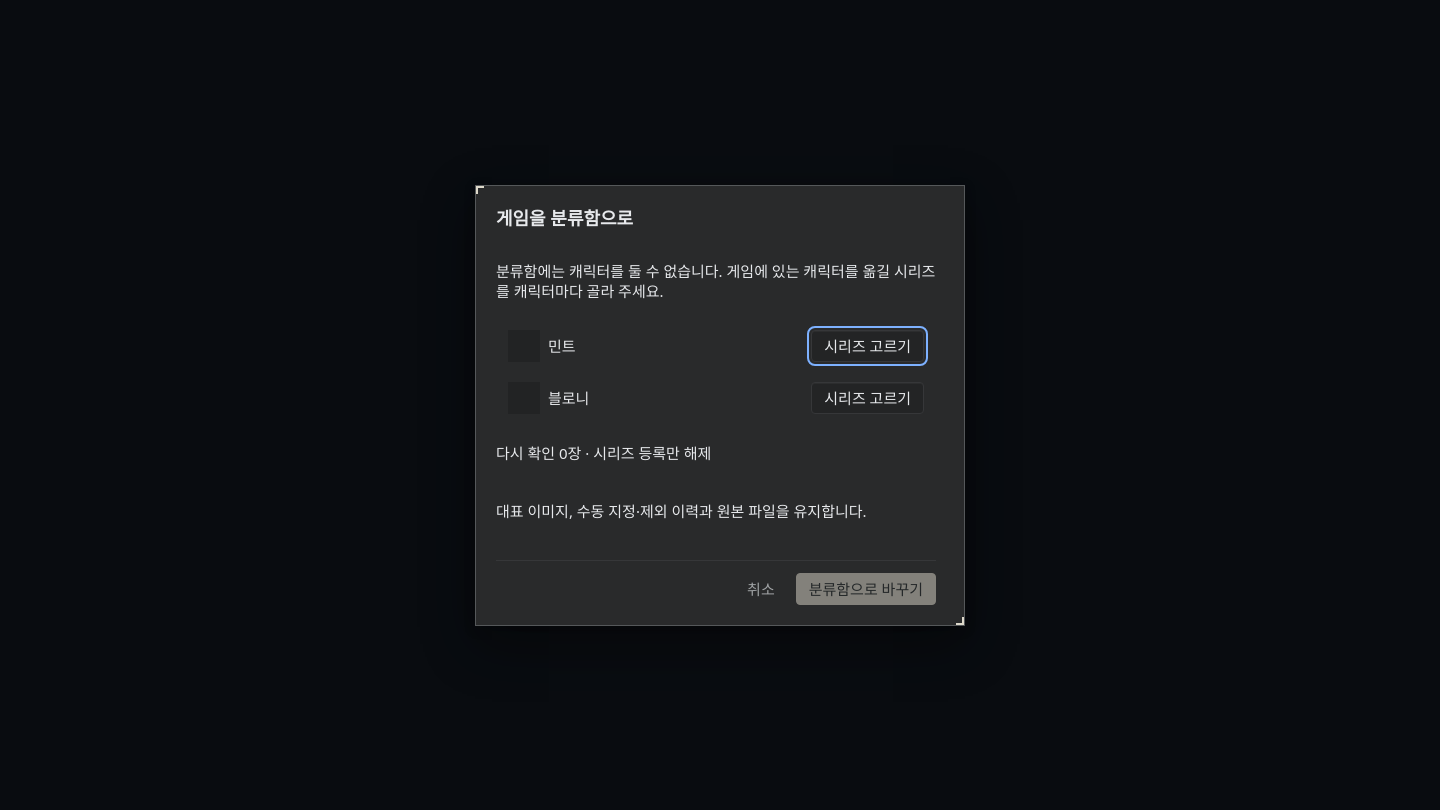
it: warns per character when references end up outside the series, and still allows converting
Click the button "시리즈 고르기" in the row of "민트". click: {"x": 868, "y": 346}
box: left=811, top=330, right=924, bottom=362
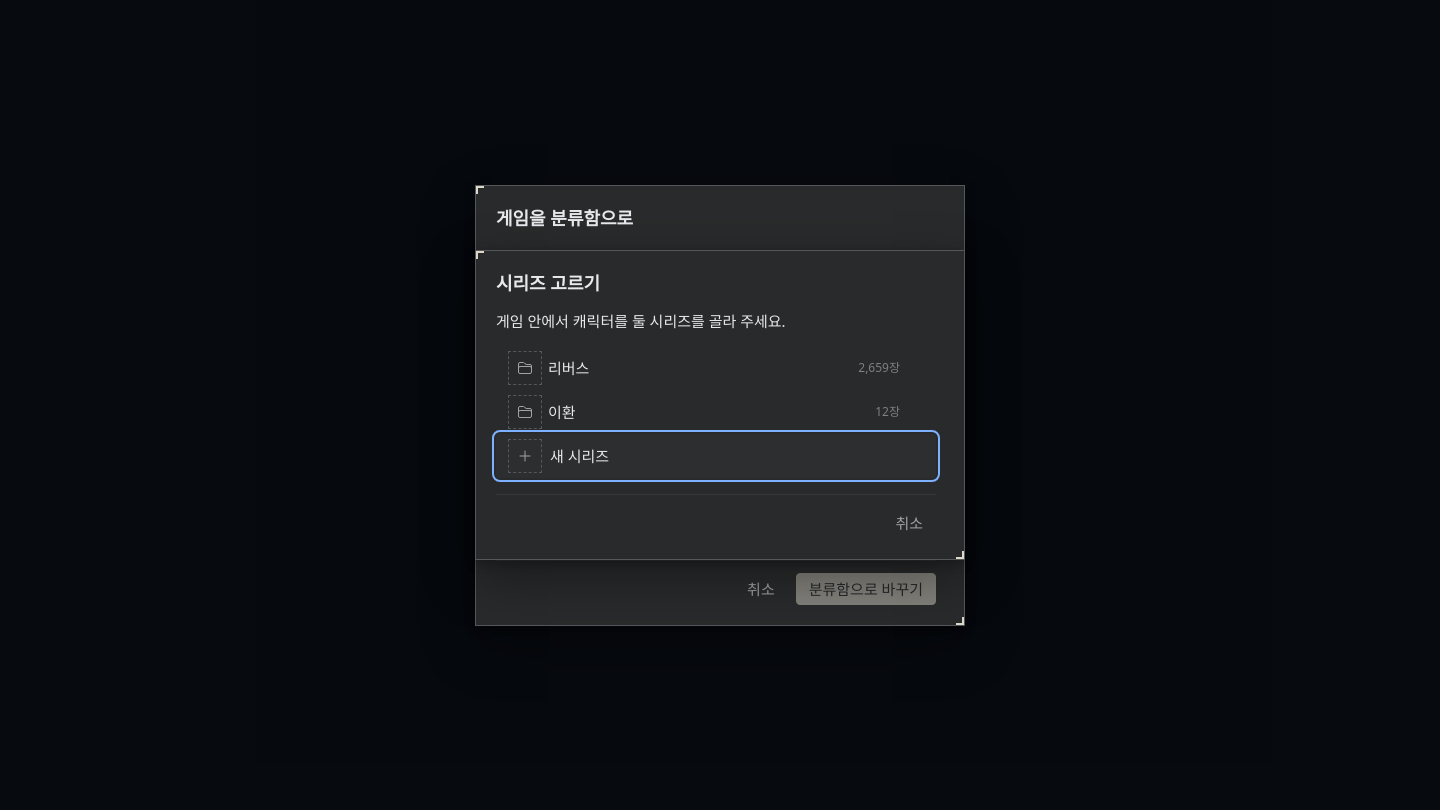
Click the button "이환 12장". click: {"x": 525, "y": 412}
box: left=496, top=390, right=936, bottom=434
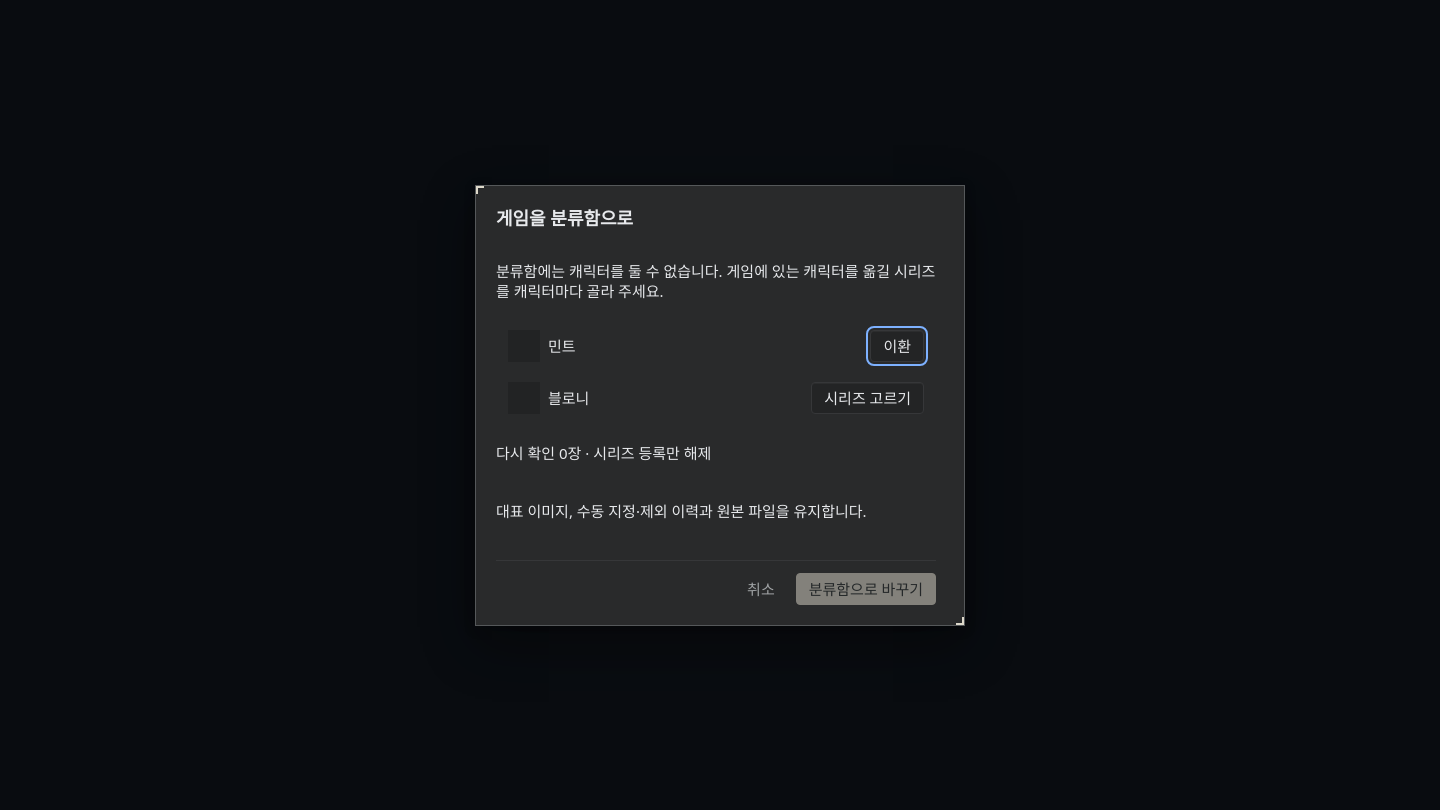
Click the button "시리즈 고르기". click: {"x": 868, "y": 398}
box: left=811, top=382, right=924, bottom=414
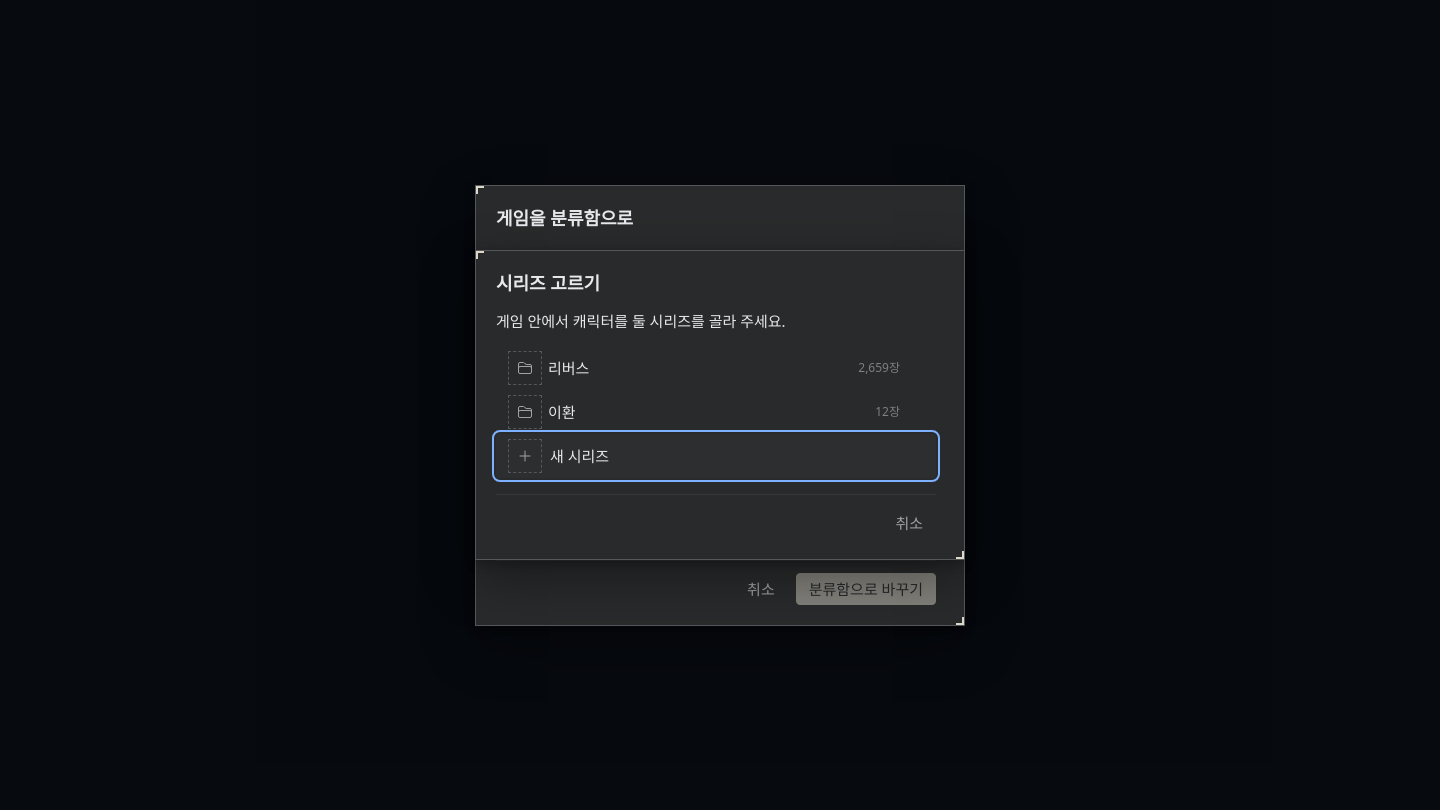
Click the button "리버스 2,659장". click: {"x": 525, "y": 368}
box: left=496, top=346, right=936, bottom=390
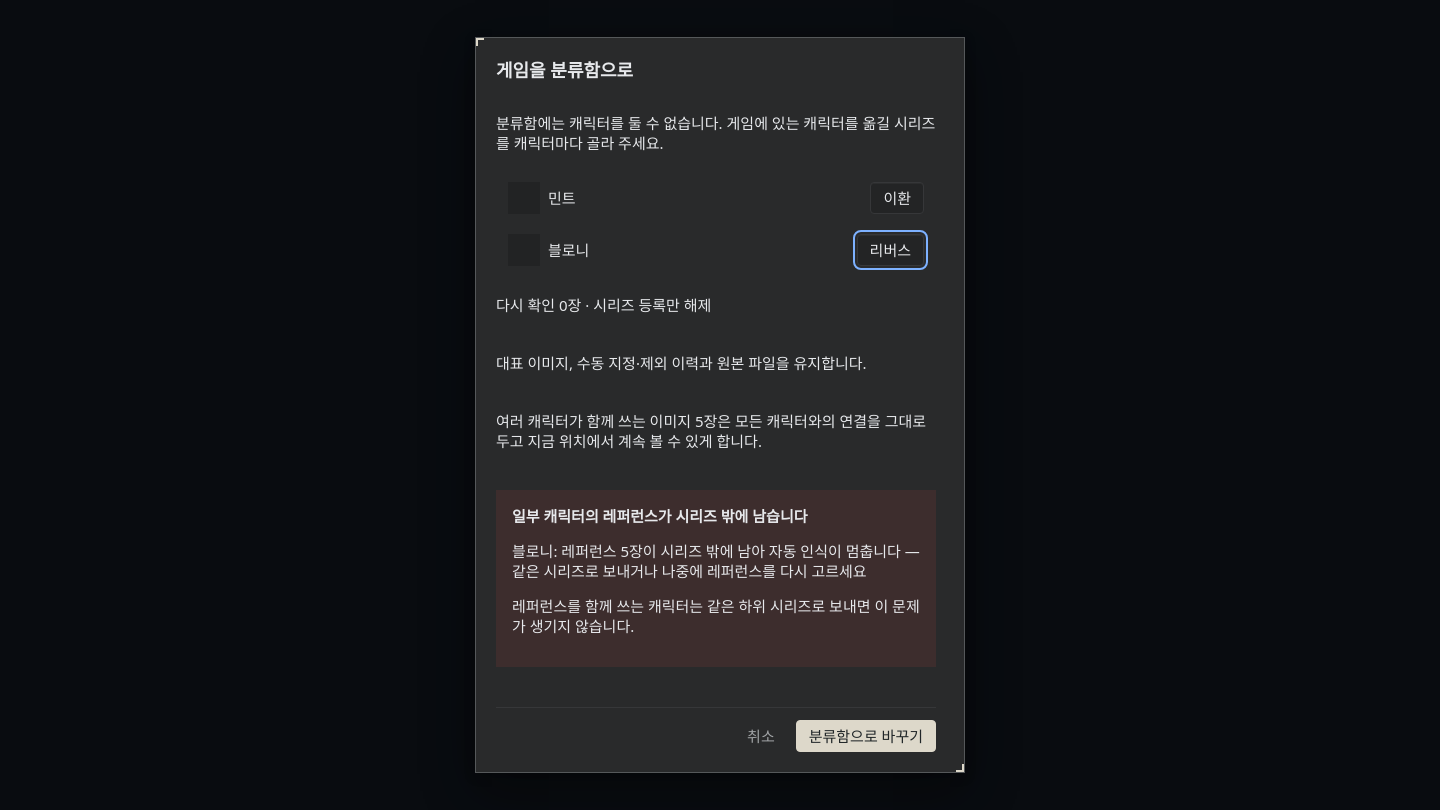
Now the text "블로니: 레퍼런스 5장이 시리즈 밖에 남아 자동 인식이 멈춥니다" is shown, box left=512, top=541, right=920, bottom=581
Now the text "레퍼런스를 함께 쓰는 캐릭터는 같은 하위 시리즈로 보내면 이 문제가 생기지 않습니다." is shown, box left=512, top=596, right=920, bottom=636
Now the button "분류함으로 바꾸기" is enabled, box left=796, top=720, right=936, bottom=752
